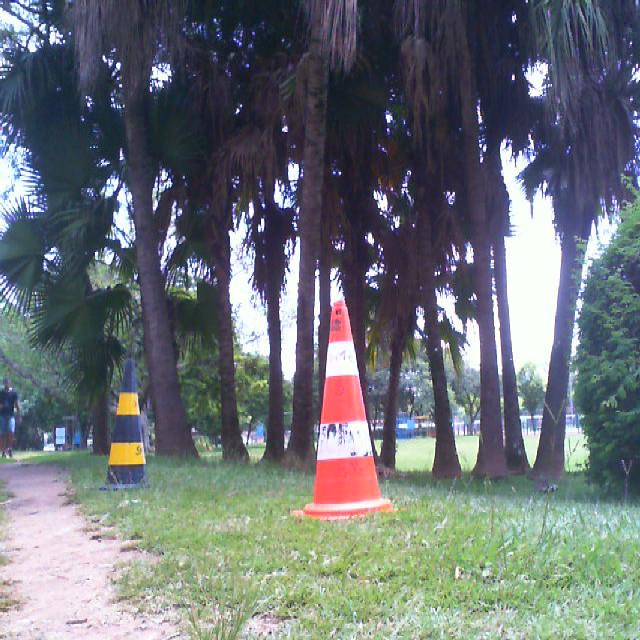cone: (289, 299, 397, 520), (98, 357, 151, 492)
